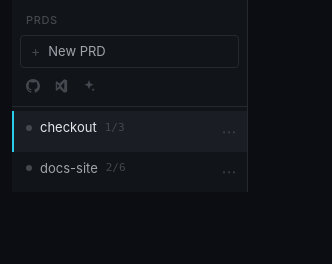
Scenario: dismissal › dismisses on completing an action
Click the 1st button "⋯". click: (229, 131)
box: [217,122,241,141]
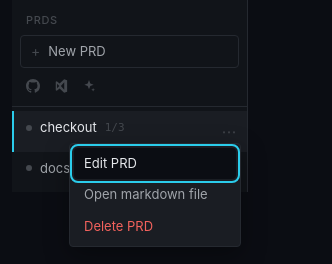
Click the menu item "Edit PRD". click: (155, 164)
box: [74,148,236,179]
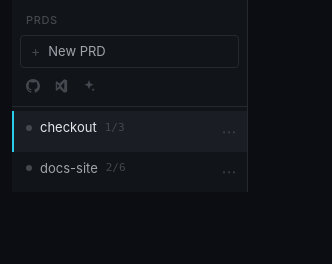
Expected: the menu is gone
